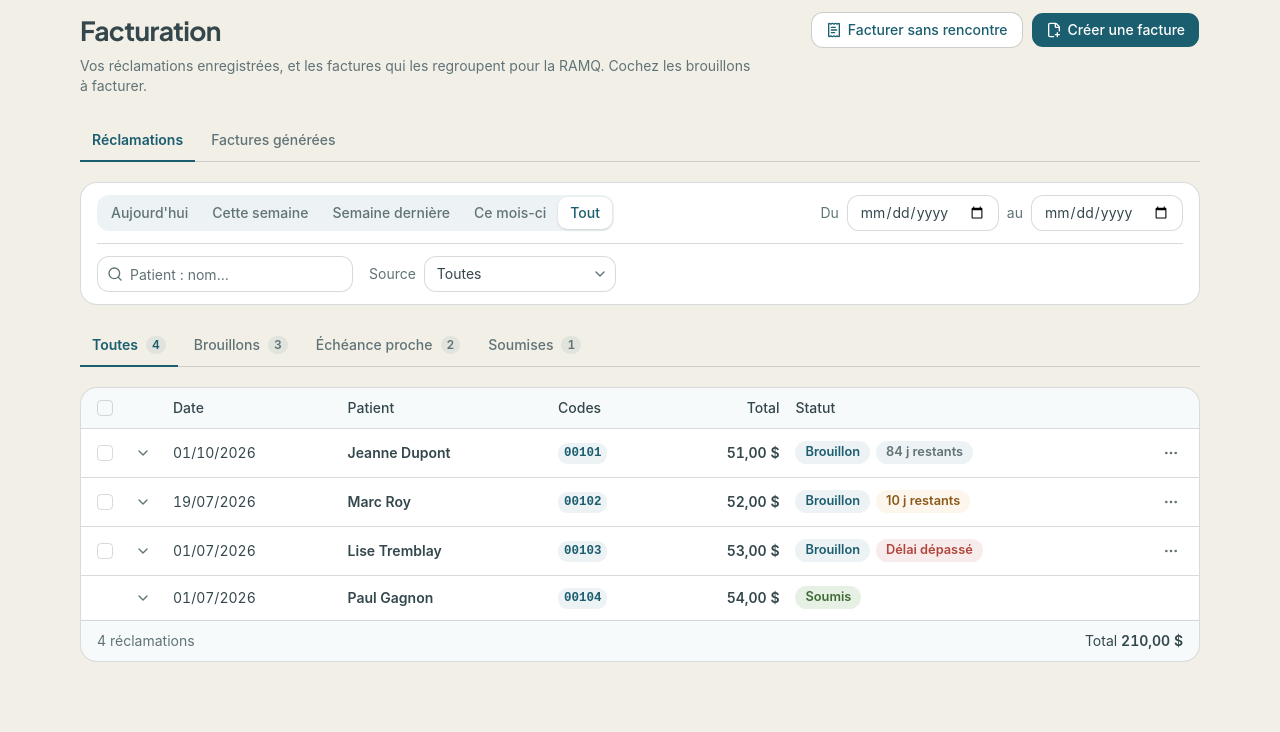
Test case: claims tab › marks how long each draft has left before RAMQ's deadline, with a tab for the urgent ones
The width and height of the screenshot is (1280, 732).
Expected: the text "Jeanne Dupont" is shown, [348, 444, 451, 460]
Expected: the text "84 j restants" is shown, [876, 441, 973, 464]
What coordinates should you click on to do the following:
click the tab "Échéance proche 2"
I would click on:
 (388, 346)
Its box is [304, 325, 472, 367].
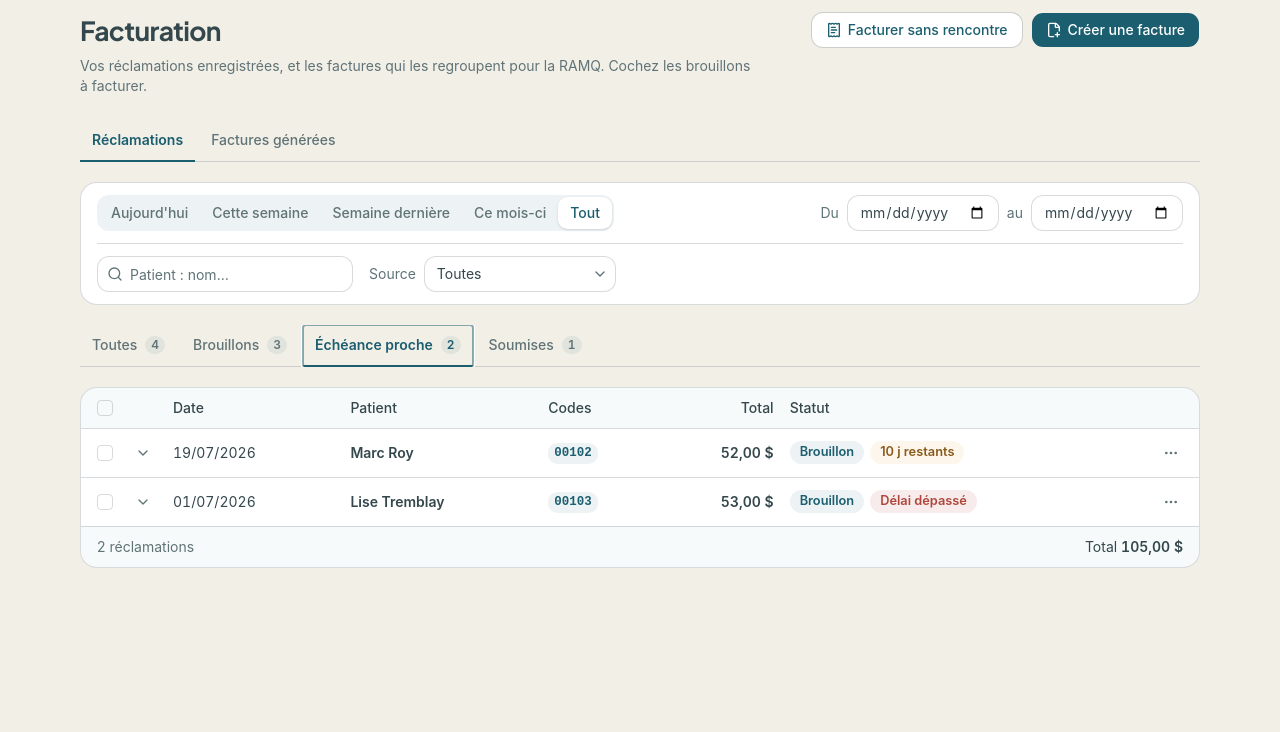
Expected: the text "Marc Roy" is shown, [350, 444, 414, 460]
Result: the text "Jeanne Dupont" is gone
Result: the text "Paul Gagnon" is gone
